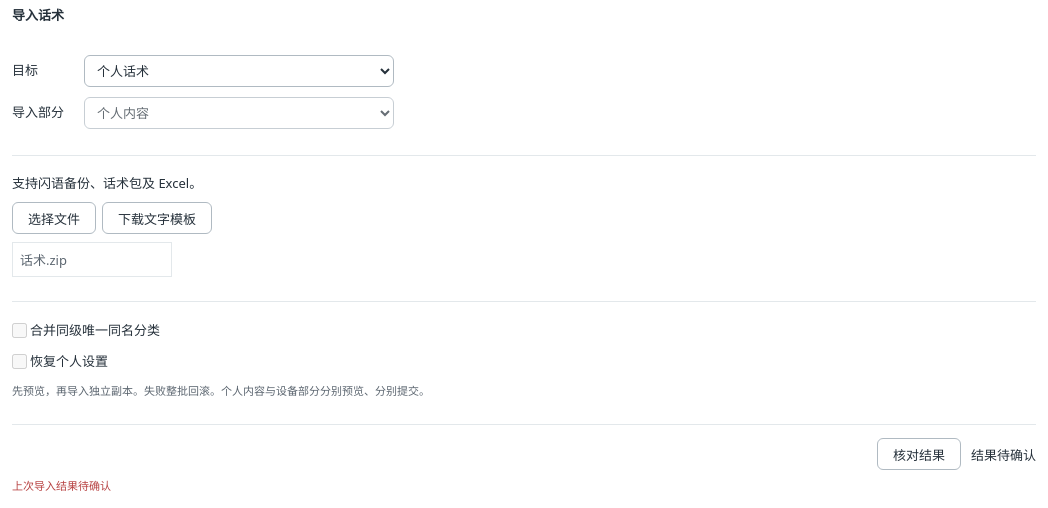
it: 待确认批次只核对，不自动重发，核对后沿用原预览编号
Expected: the text "结果待确认" is shown, 971,445 -> 1036,464
Expected: the button "选择文件" is disabled, 12,202 -> 96,234
Click the button "核对结果" at (919, 454), box 877,438 -> 961,470
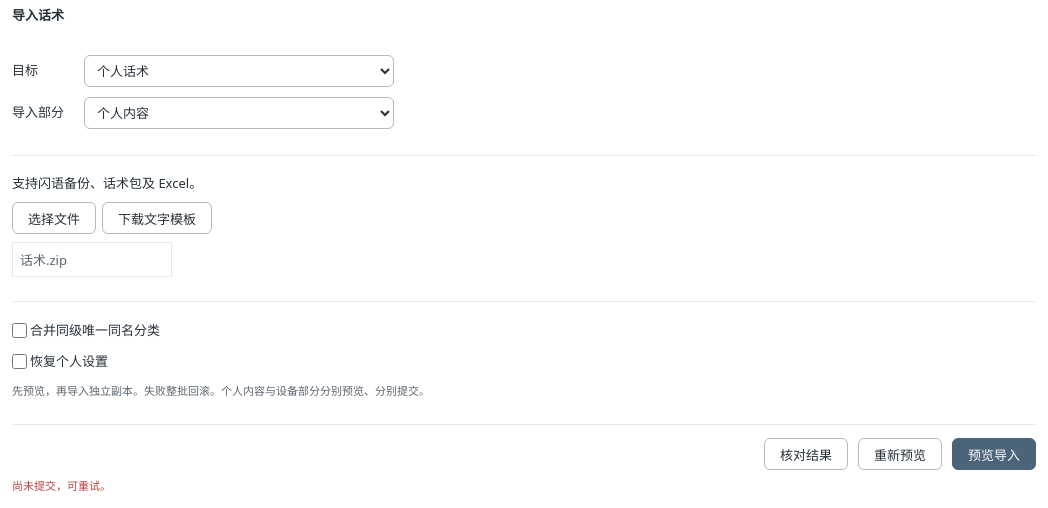
Now the button "预览导入" is enabled, box 952,438 -> 1036,470
